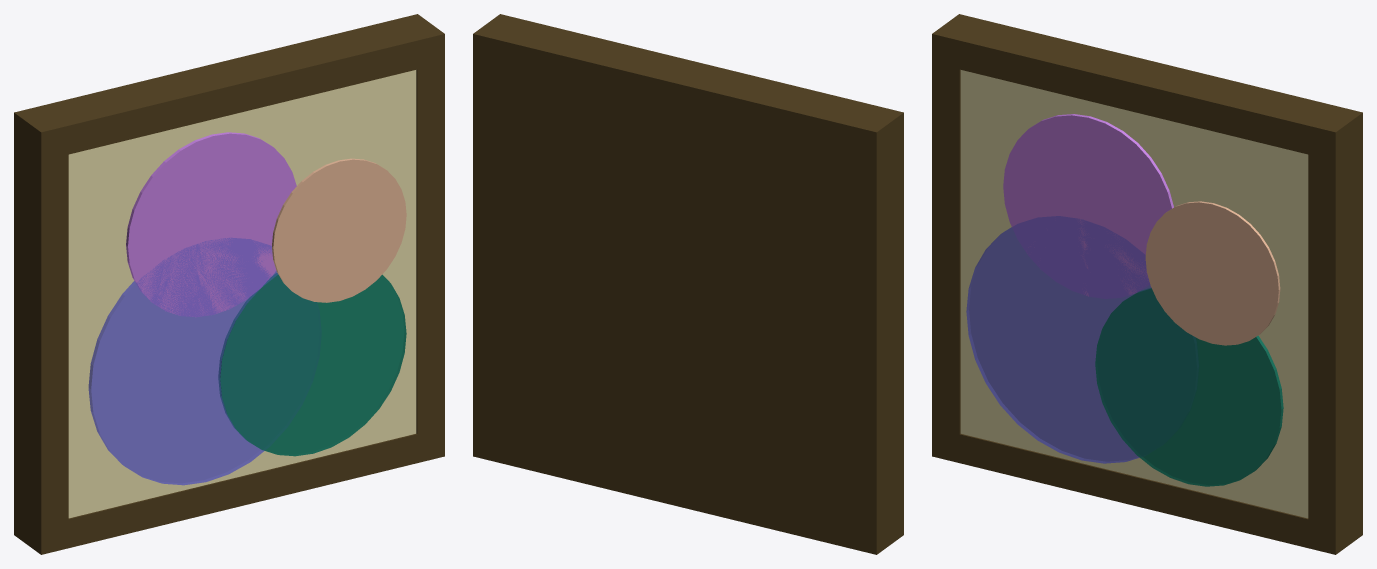
File: Pintura_Cercles.fbx
The picture shows the model from 3 angles, left to right: view 1: azimuth 30°, elevation 25°; view 2: azimuth 150°, elevation 25°; view 3: azimuth 330°, elevation 25°; orthographic projection.
Visible parts, largest first — view 1: Marc, Cube, Circle.003, Circle.002, Circle.001, Circle; view 2: Marc; view 3: Marc, Cube, Circle.003, Circle.002, Circle.001, Circle.
Part boxes in pixels (x1,y1,x2,y2): Marc: [14, 14, 444, 554]; Cube: [68, 70, 416, 518]; Circle.003: [88, 237, 320, 485]; Circle.002: [218, 273, 406, 456]; Circle.001: [126, 132, 296, 317]; Circle: [272, 158, 406, 302]; Marc: [473, 14, 903, 554]; Marc: [932, 14, 1362, 554]; Cube: [960, 70, 1308, 518]; Circle.003: [966, 216, 1151, 463]; Circle.002: [1095, 288, 1283, 486]; Circle.001: [1003, 114, 1173, 298]; Circle: [1145, 201, 1280, 345].
Bounding box in the file's own units: 232 × 232 × 36.28.
